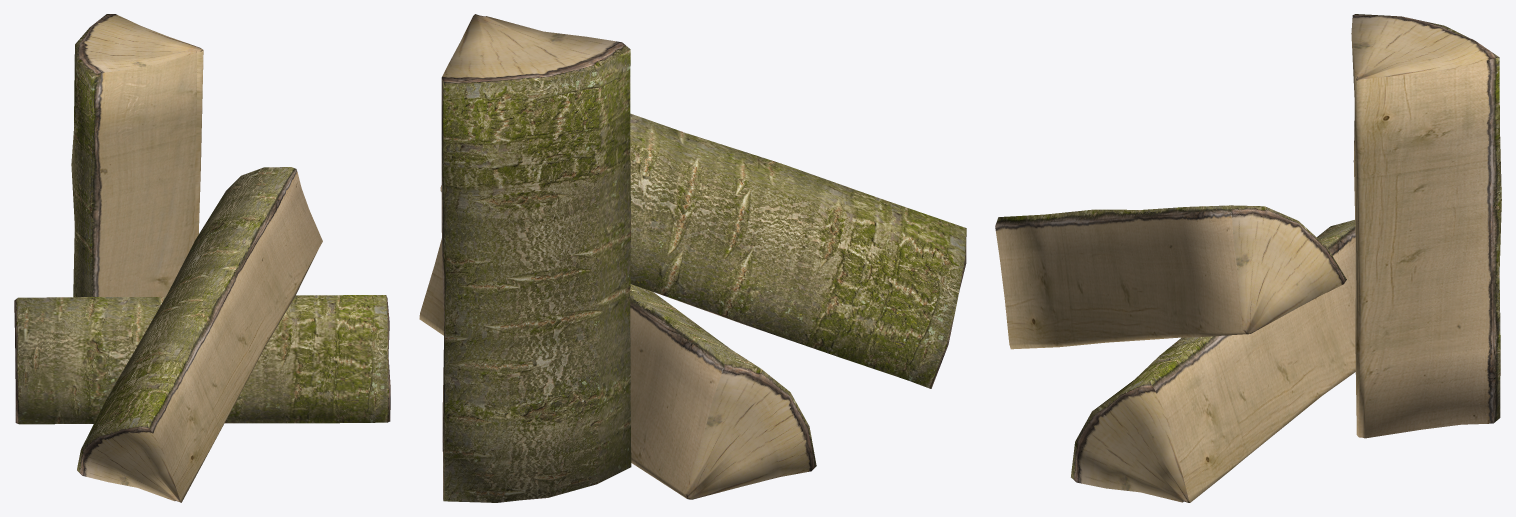
The model's file is Firewood_1.fbx.
3 renders of one model, left to right at view 1: azimuth 30°, elevation 25°; view 2: azimuth 150°, elevation 25°; view 3: azimuth 270°, elevation 25°, orthographic. The views are drawn at different scales.
Parts seen in each view (by area): view 1: Firewood_1; view 2: Firewood_1; view 3: Firewood_1.
Boxes of the visible parts, left/top/right/bottom form: Firewood_1: left=14, top=14, right=390, bottom=502; Firewood_1: left=419, top=14, right=966, bottom=502; Firewood_1: left=995, top=14, right=1501, bottom=502.
Bounding box in the file's own units: 191 × 165 × 205.
